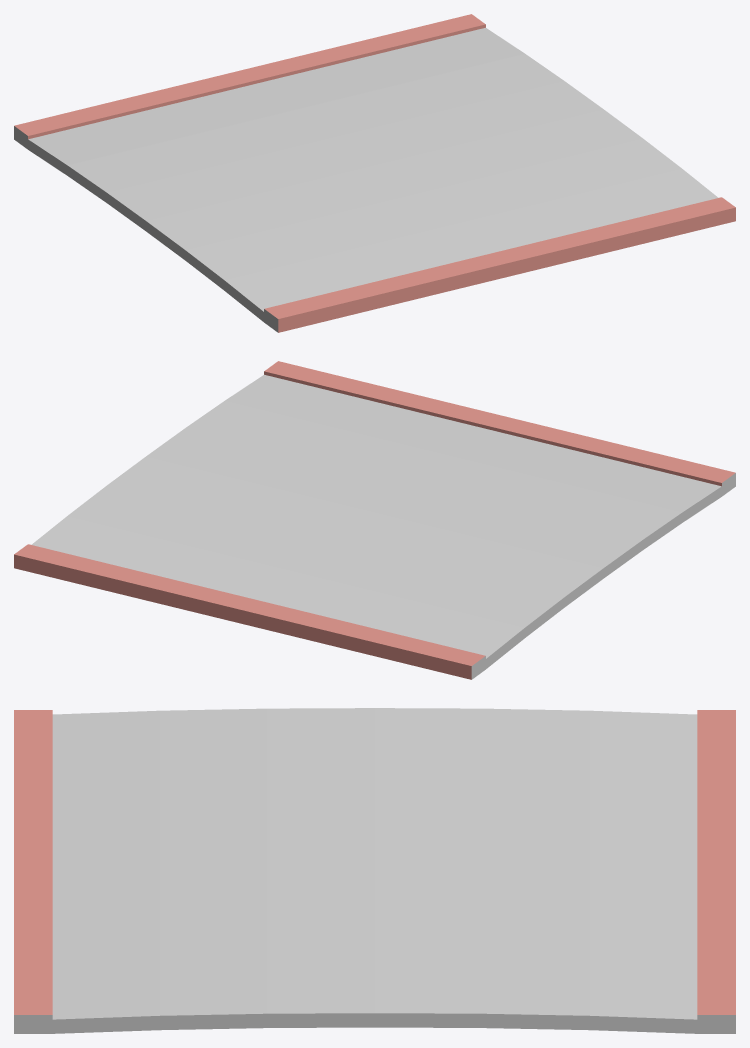
The model's file is road.fbx.
3 views of the same model, one above another, from view 1: azimuth 30°, elevation 25°; view 2: azimuth 150°, elevation 25°; view 3: azimuth 270°, elevation 25° (orthographic). The views are drawn at different scales.
Visible parts, largest first — view 1: SM_road; view 2: SM_road; view 3: SM_road.
Part boxes in pixels (bbox=[...]): SM_road: bbox=[14, 14, 735, 332]; SM_road: bbox=[14, 361, 735, 679]; SM_road: bbox=[14, 708, 735, 1033].
Size of the model in its own units: 480 by 15.21 by 480.
